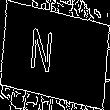N_S: (41, 27, 69, 83)
